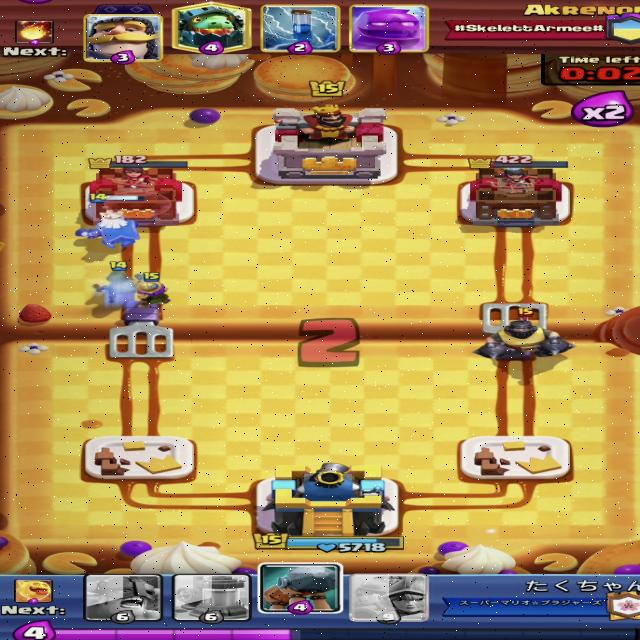Enemy-MegaKnight: (470, 306, 580, 359)
Player-Bandit: (84, 260, 144, 301)
Player-Musketeer: (130, 272, 175, 310)
Player-RoyalGhost: (69, 193, 143, 249)
